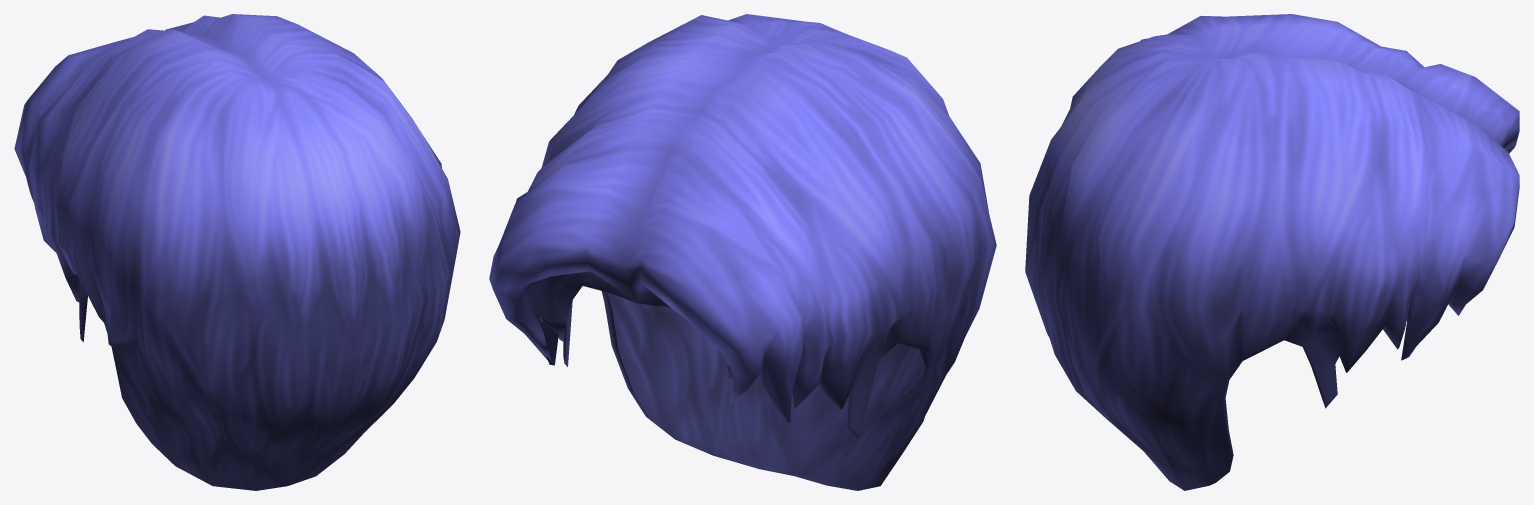
File: Hair_Male_006_textured_sky.glb
3 renders of one model, left to right at view 1: azimuth 30°, elevation 25°; view 2: azimuth 150°, elevation 25°; view 3: azimuth 270°, elevation 25°, orthographic. The views are drawn at different scales.
Visible parts, largest first — view 1: Hair_Male_006; view 2: Hair_Male_006; view 3: Hair_Male_006.
Part boxes in pixels (left/top/right/bottom): Hair_Male_006: left=14, top=14, right=460, bottom=490; Hair_Male_006: left=489, top=14, right=996, bottom=490; Hair_Male_006: left=1025, top=14, right=1519, bottom=490.
Bounding box in the file's own units: 0.195 × 0.2308 × 0.2425.
Materials: 1 (1 with a texture image).
